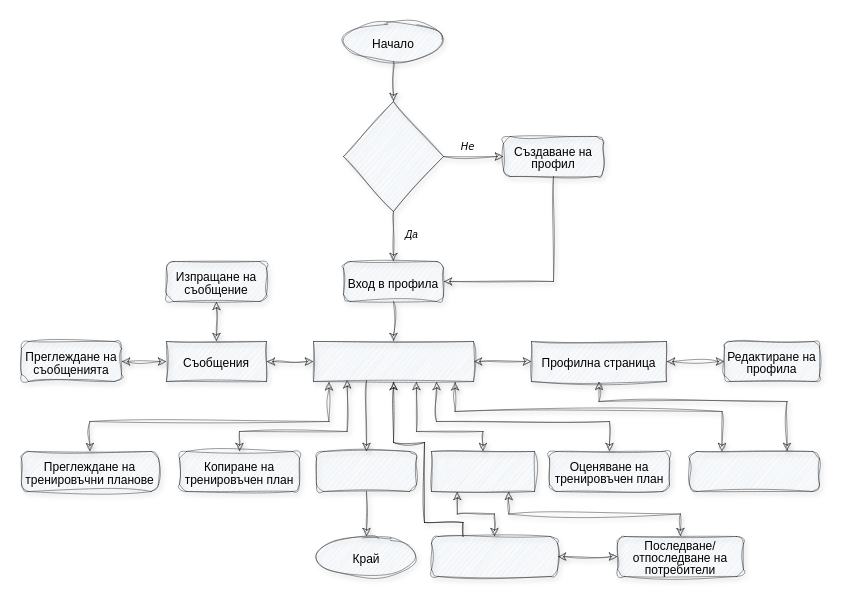
Image size: 843x612. Some labels were removed from this diagram. The centre of each missing label's shape, as x and y in pixels:
"Изход" belongs at pixel 367 472.
"Начална страница" belongs at pixel 394 362.
"Потребителят има ли профил?" belongs at pixel 394 157.
"Преглеждане на профила на други потребители" belongs at pixel 495 558.
"Търсене на потребители" belongs at pixel 483 472.
"Управление на тренировъчния план" belongs at pixel 755 472.
